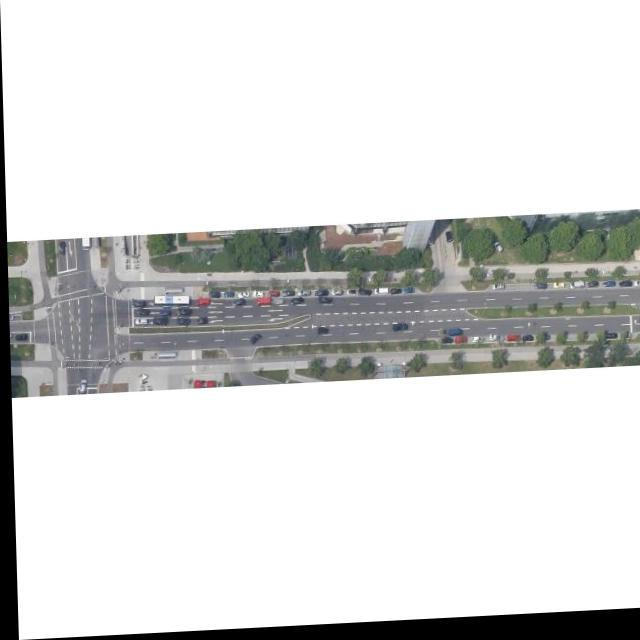vehicle: (490, 246, 503, 259), (129, 301, 144, 311), (151, 318, 166, 327), (247, 337, 260, 347), (391, 327, 405, 336), (531, 287, 545, 296), (313, 292, 327, 301), (175, 310, 190, 318), (487, 339, 502, 347), (569, 286, 582, 295), (57, 243, 65, 257), (446, 333, 460, 341), (174, 320, 188, 328), (193, 300, 207, 308), (253, 300, 267, 308), (207, 292, 219, 301), (135, 310, 148, 318), (317, 299, 330, 307), (452, 341, 465, 349), (617, 286, 630, 294), (229, 301, 243, 308), (444, 236, 452, 248), (289, 301, 302, 308), (505, 340, 518, 347), (357, 293, 370, 300), (271, 300, 282, 308), (440, 341, 451, 349), (520, 340, 531, 348), (267, 292, 278, 300), (14, 334, 26, 341), (134, 319, 146, 326), (77, 380, 83, 394), (194, 320, 206, 327), (600, 287, 612, 294), (251, 293, 261, 301), (373, 293, 386, 299), (157, 311, 168, 318), (604, 339, 615, 346), (330, 292, 341, 299), (237, 293, 248, 300), (296, 293, 308, 299), (316, 331, 326, 338), (469, 341, 480, 347), (401, 292, 412, 298), (389, 292, 400, 298), (586, 288, 596, 294), (280, 294, 292, 299), (491, 290, 502, 295), (552, 289, 562, 294), (436, 334, 444, 340), (223, 294, 231, 300), (633, 288, 640, 293), (345, 294, 353, 298)
